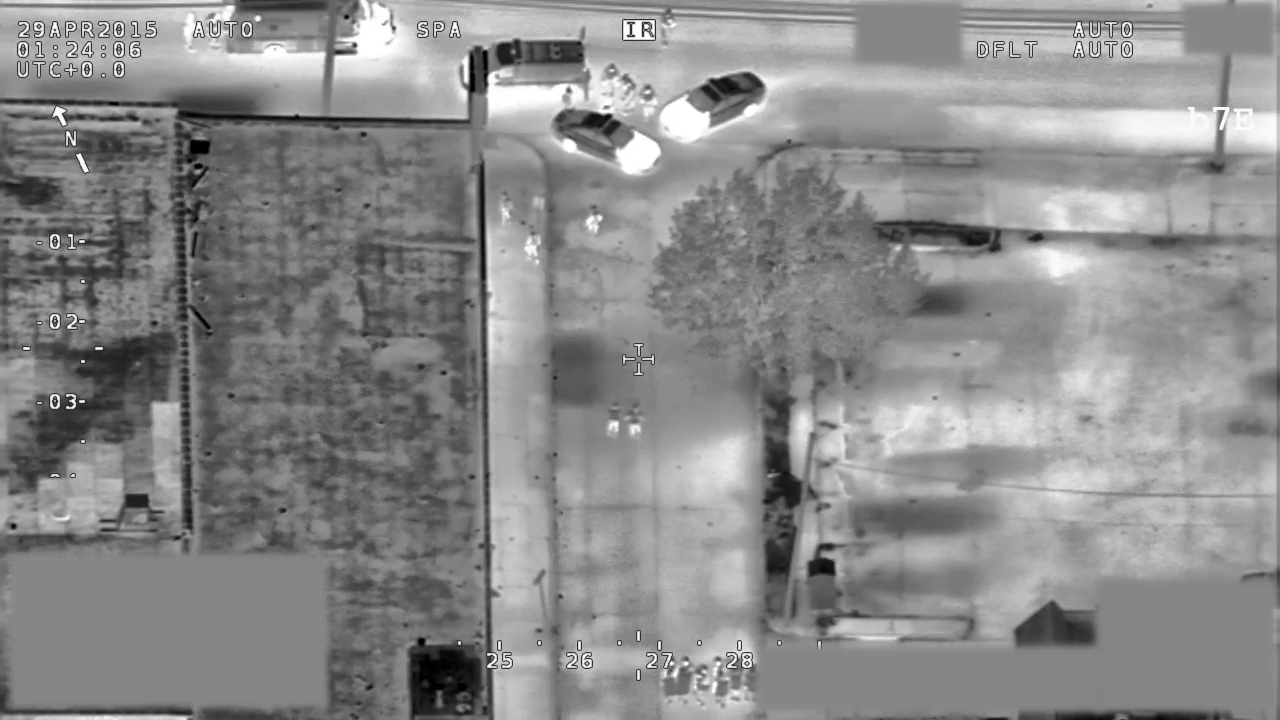vehicle: (206, 1, 399, 55), (459, 27, 595, 93), (656, 68, 769, 143), (549, 105, 662, 177)
